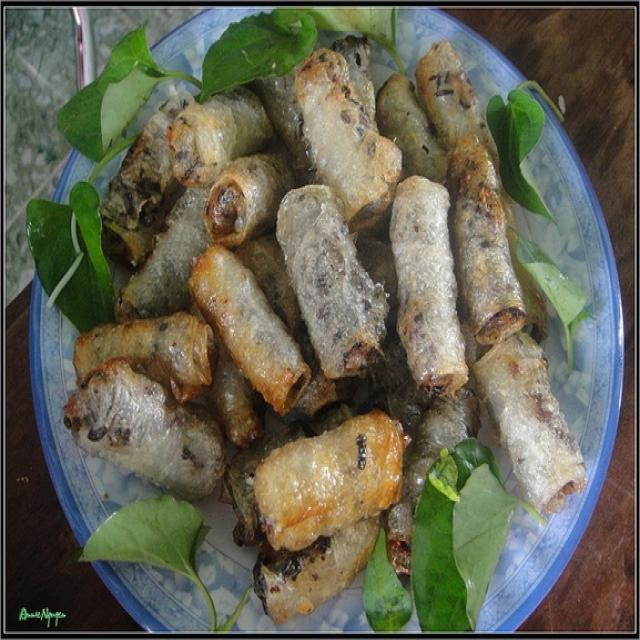炸货点心: (28, 4, 616, 626)
